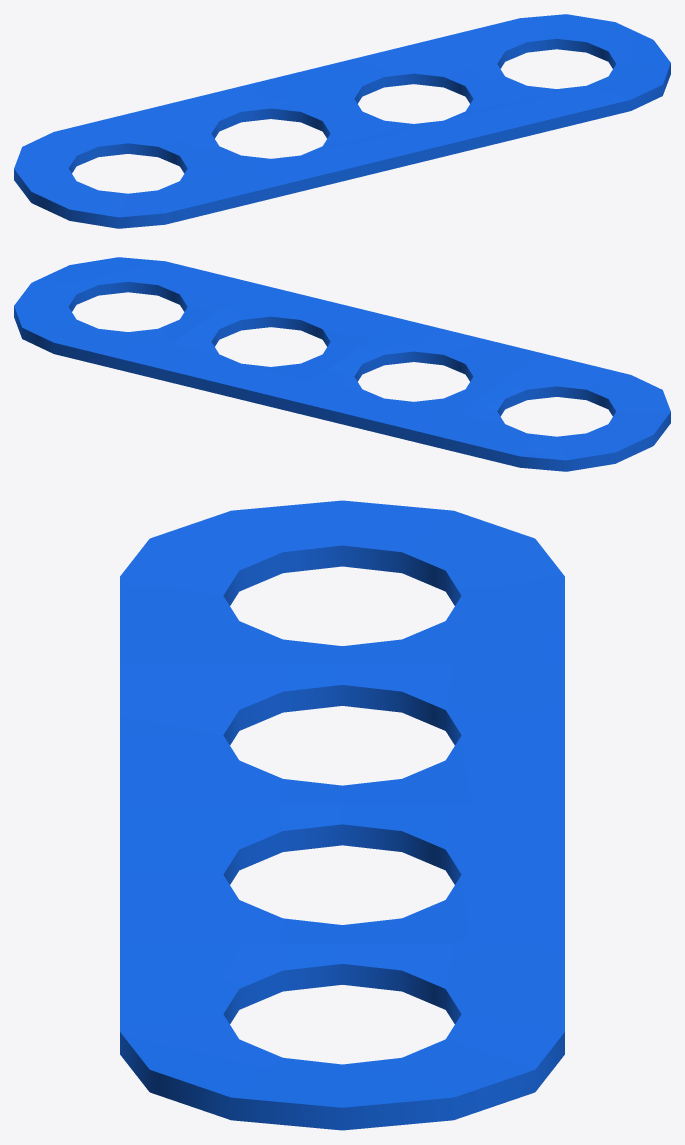
The model's file is FourLongBlue.fbx.
3 views of the same model, one above another, from view 1: azimuth 30°, elevation 25°; view 2: azimuth 150°, elevation 25°; view 3: azimuth 270°, elevation 25° (orthographic). The views are drawn at different scales.
Visible parts, largest first — view 1: Blue4; view 2: Blue4; view 3: Blue4.
Boxes of the visible parts, x1,y1,x2,y2 form: Blue4: (14,14,670,228); Blue4: (14,257,670,471); Blue4: (120,500,564,1130).
Bounding box in the file's own units: 11.13 × 0.1942 × 3.45.
